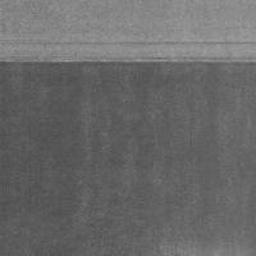Welding line: (0, 54, 256, 64)
